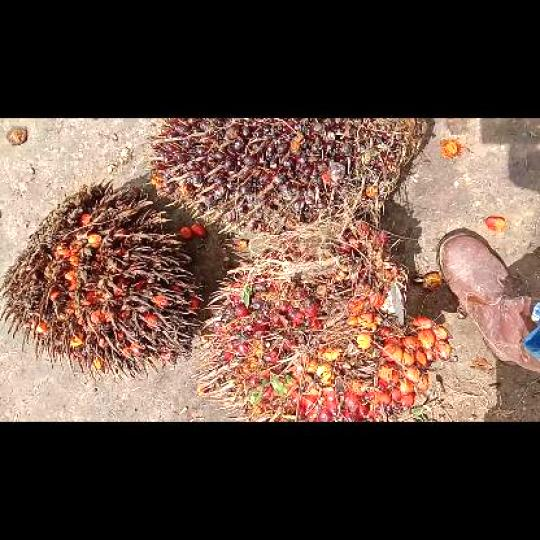kurang masak: (148, 118, 431, 238)
masak: (206, 221, 453, 420)
terlalu masak: (2, 183, 203, 373)
